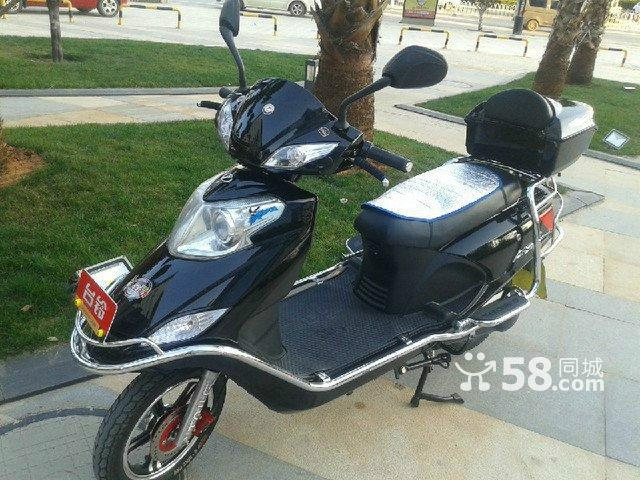电动车: (66, 1, 604, 475)
